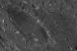crater: (1, 2, 64, 47)
